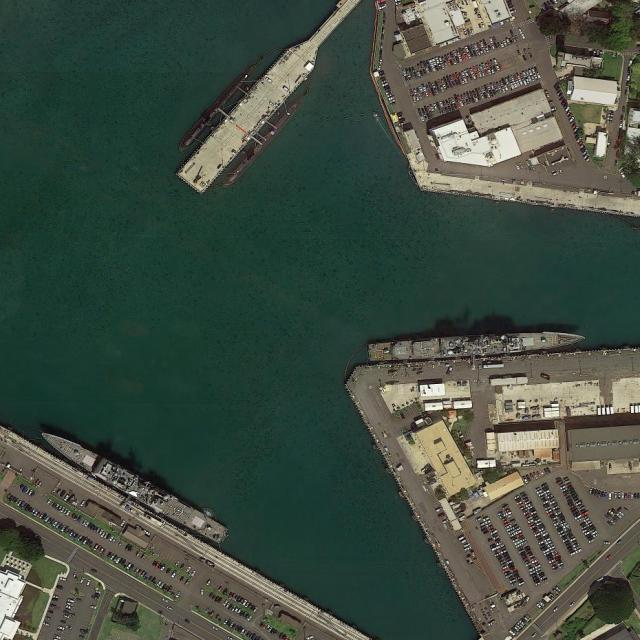Cruiser: (36, 425, 225, 544), (369, 328, 585, 361)
Dock: (178, 32, 326, 194)
Submarine: (176, 62, 256, 153), (224, 100, 299, 186)
